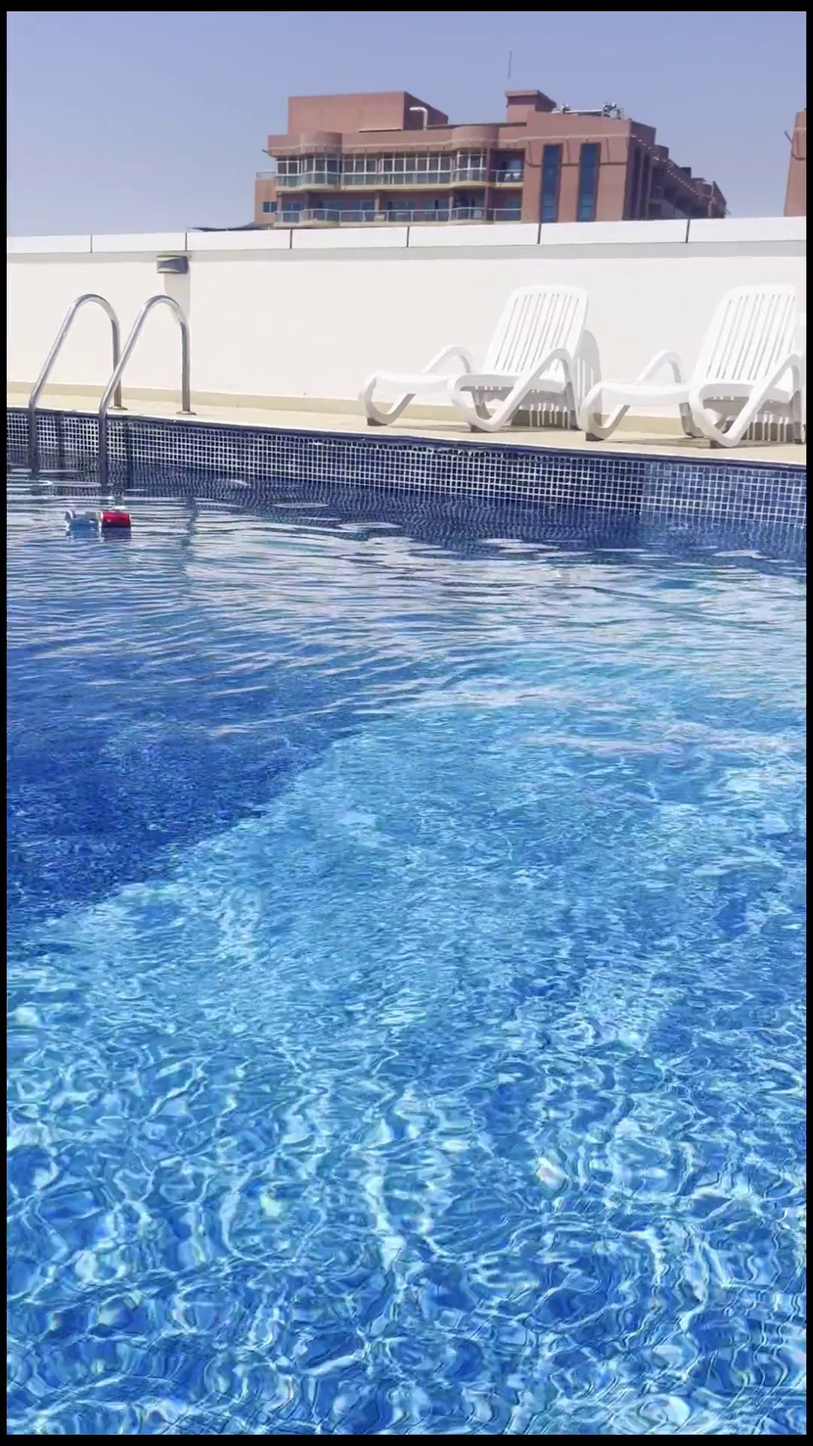debris: (93, 502, 132, 548), (59, 500, 102, 539)
